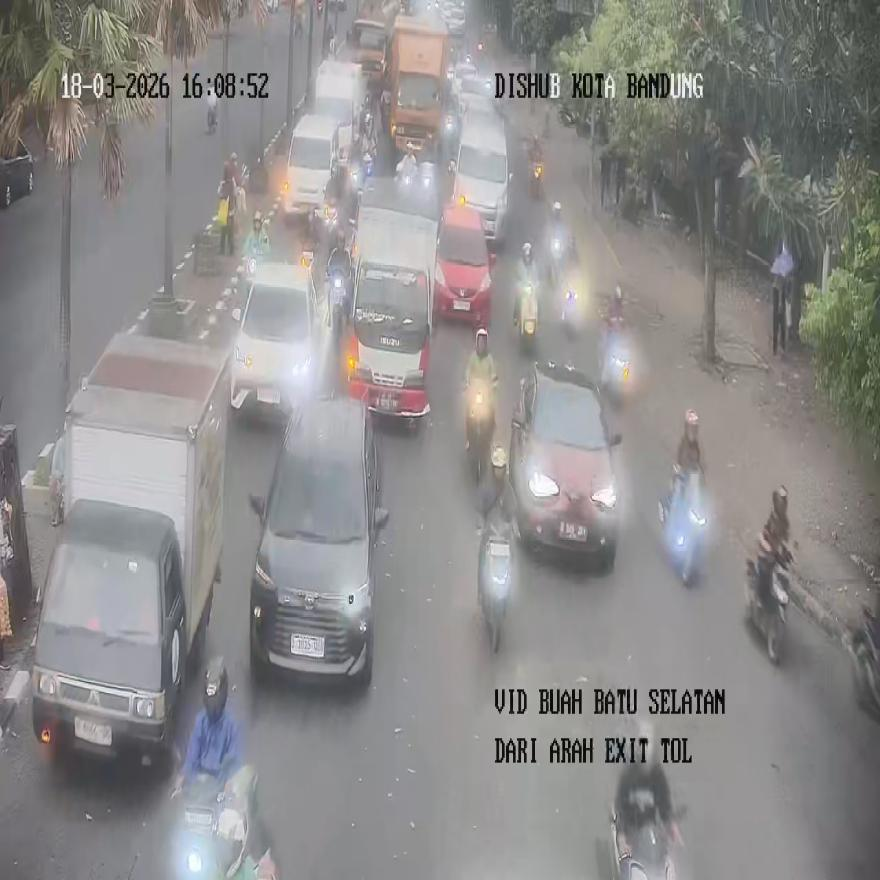Bis mini: (449, 99, 511, 247)
Mobil: (28, 332, 228, 769), (249, 394, 388, 686), (511, 360, 621, 568), (344, 176, 438, 419), (228, 259, 333, 419), (434, 198, 492, 331)
Motor: (171, 764, 259, 880), (658, 466, 706, 586), (610, 799, 674, 880), (746, 550, 790, 665), (478, 524, 511, 652), (845, 606, 880, 716), (465, 388, 494, 486), (598, 322, 632, 404), (326, 248, 350, 334), (516, 281, 538, 353), (562, 281, 579, 337), (206, 90, 218, 134), (531, 161, 544, 198)
